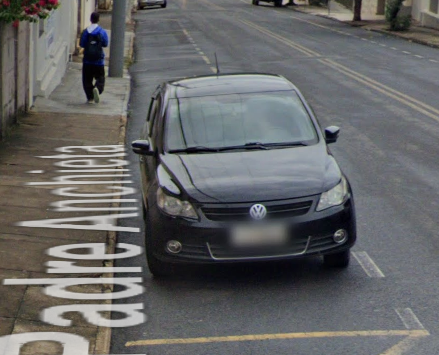car: (129, 50, 361, 283)
